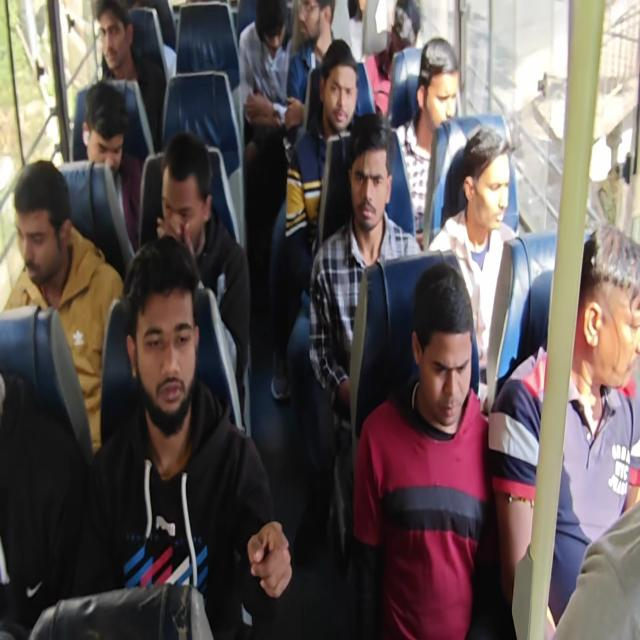person: (2, 1, 638, 638), (76, 234, 293, 638), (488, 222, 639, 637), (352, 262, 493, 638), (308, 112, 422, 439), (3, 159, 124, 455), (270, 38, 360, 401), (154, 131, 251, 430), (428, 125, 518, 398), (237, 1, 294, 288), (389, 36, 461, 243), (551, 499, 639, 639), (93, 0, 166, 154), (80, 80, 143, 255), (237, 0, 292, 146), (285, 0, 336, 136), (364, 0, 421, 117)
